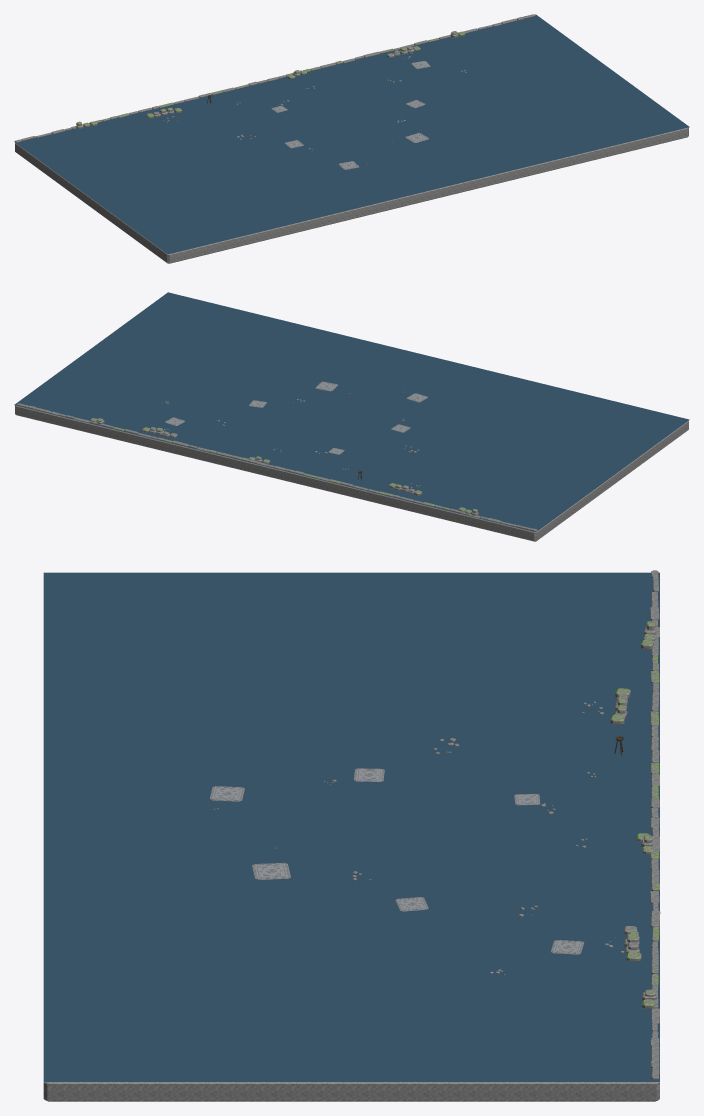
Rendered from Scene_SkywardTerrace_1.fbx.
3 renders of one model, top to bottom at view 1: azimuth 30°, elevation 25°; view 2: azimuth 150°, elevation 25°; view 3: azimuth 270°, elevation 25°, orthographic. The views are drawn at different scales.
Parts seen in each view (by area): view 1: CloudShade, Terrace_Masonry_Base, Worn_Individual_Coping_Blocks; view 2: CloudShade, Terrace_Masonry_Base, Worn_Individual_Coping_Blocks; view 3: CloudShade, Terrace_Masonry_Base, Worn_Individual_Coping_Blocks.
Boxes of the visible parts, box(x1,y1,x2,y2) form: CloudShade: box(14, 14, 689, 254); Terrace_Masonry_Base: box(15, 127, 688, 263); Worn_Individual_Coping_Blocks: box(15, 14, 535, 142); CloudShade: box(14, 292, 689, 532); Terrace_Masonry_Base: box(15, 405, 688, 541); Worn_Individual_Coping_Blocks: box(16, 403, 537, 531); CloudShade: box(43, 572, 659, 1081); Terrace_Masonry_Base: box(43, 1082, 659, 1101); Worn_Individual_Coping_Blocks: box(650, 570, 660, 1079).
Bounding box in the file's own units: 9000 × 296 × 4602.
